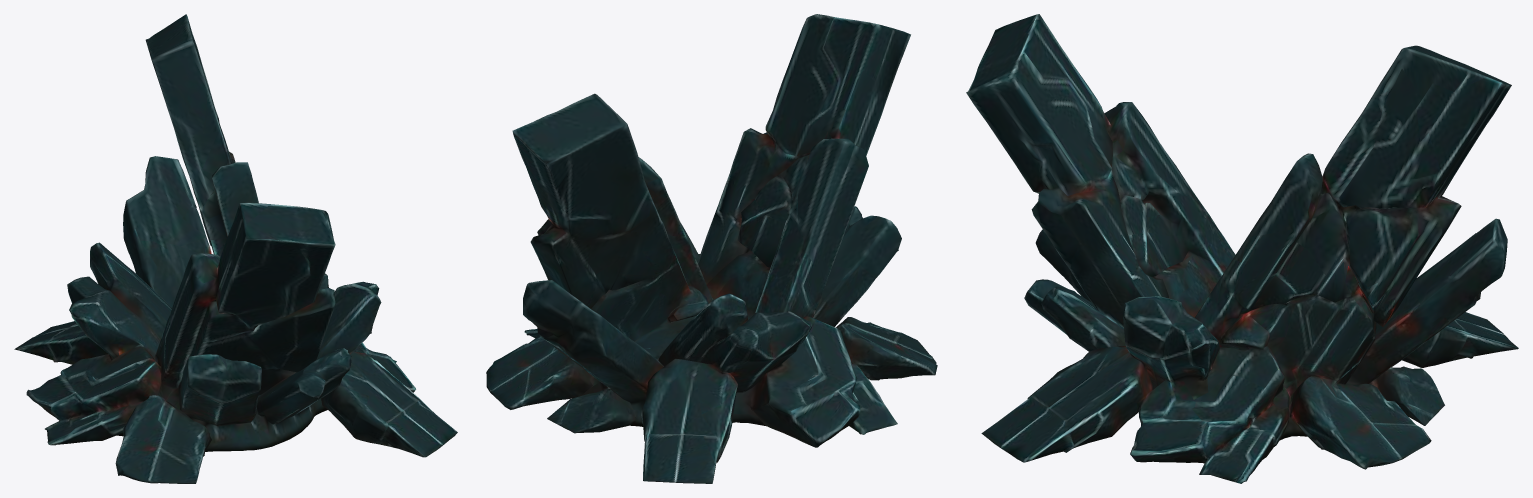
Rendered from sp_rift.glb.
3 renders of one model, left to right at view 1: azimuth 30°, elevation 25°; view 2: azimuth 150°, elevation 25°; view 3: azimuth 270°, elevation 25°, orthographic. The views are drawn at different scales.
Parts seen in each view (by area): view 1: tripo_node_08d8beeb-c960-4efb-905a-6e726e31e7ab; view 2: tripo_node_08d8beeb-c960-4efb-905a-6e726e31e7ab; view 3: tripo_node_08d8beeb-c960-4efb-905a-6e726e31e7ab.
Part boxes in pixels (<box>): tripo_node_08d8beeb-c960-4efb-905a-6e726e31e7ab: <box>14,14,457,483</box>; tripo_node_08d8beeb-c960-4efb-905a-6e726e31e7ab: <box>486,14,937,483</box>; tripo_node_08d8beeb-c960-4efb-905a-6e726e31e7ab: <box>966,14,1518,483</box>.
Bounding box in the file's own units: 0.8393 × 0.7055 × 0.9823.
Materials: 1 (1 with a texture image).
